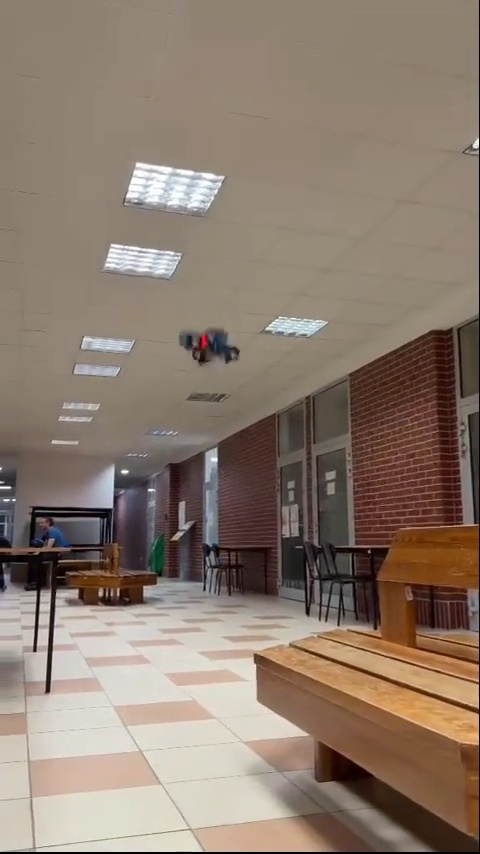drone: (177, 328, 240, 369)
no vest: (33, 511, 72, 566)
